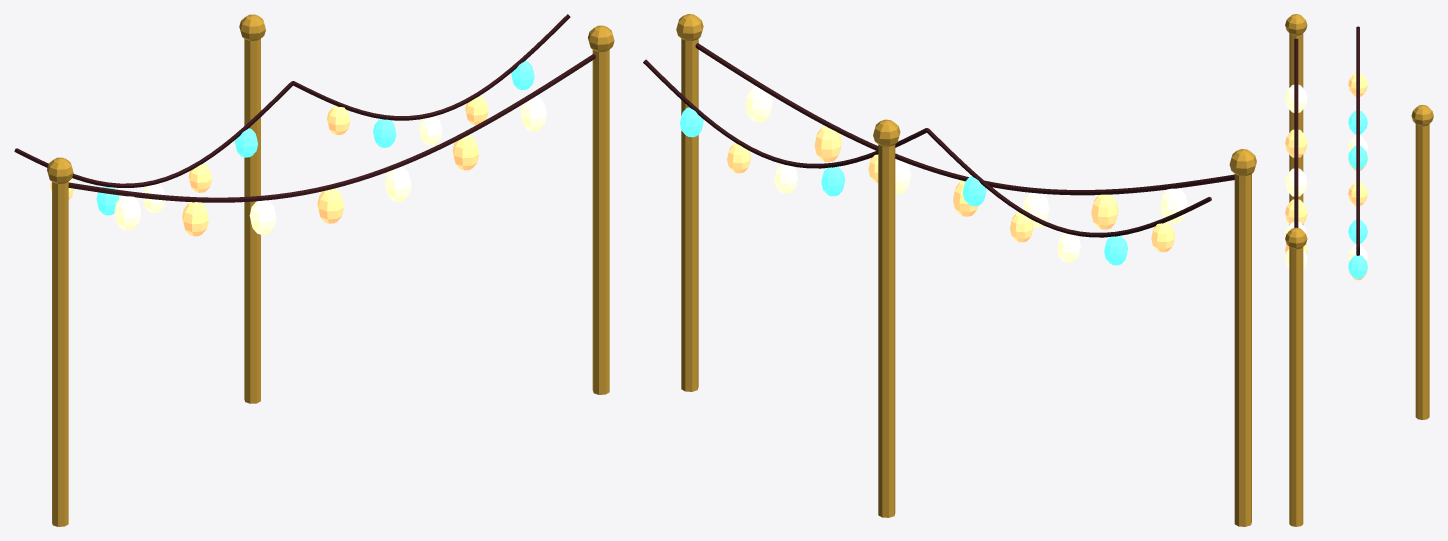
File: decoracao-luzinhas-n2.glb
The picture shows the model from 3 angles, left to right: view 1: azimuth 30°, elevation 25°; view 2: azimuth 150°, elevation 25°; view 3: azimuth 270°, elevation 25°; orthographic projection. The views are drawn at different scales.
Visible parts, largest first — view 1: Cylinder.001, Cylinder, Cylinder.042, Sphere.003, Sphere.002, Sphere.004, Sphere.005, Sphere.006, Sphere.007, Sphere.008; view 2: Cylinder.042, Cylinder, Cylinder.001, Sphere.003, Sphere.007, Sphere.008, Sphere.002; view 3: Cylinder.042, Cylinder.001, Cylinder, Sphere.004, Sphere.003, Sphere.002, Sphere, Sphere.001, Sphere.005, Sphere.009, Sphere.019, Sphere.010 (+4 smaller).
Part boxes in pixels (x1,y1,x2,y2): Cylinder.001: (592, 49, 609, 394); Cylinder: (52, 181, 68, 526); Cylinder.042: (244, 38, 260, 403); Sphere.003: (182, 202, 208, 236); Sphere.002: (114, 196, 141, 230); Sphere.004: (249, 200, 276, 234); Sphere.005: (317, 188, 343, 223); Sphere.006: (385, 166, 411, 201); Sphere.007: (452, 135, 479, 170); Sphere.008: (520, 96, 546, 131); Cylinder.042: (878, 144, 895, 517); Cylinder: (1234, 174, 1251, 526); Cylinder.001: (681, 38, 698, 391); Sphere.003: (1091, 194, 1118, 229); Sphere.007: (814, 126, 841, 162); Sphere.008: (745, 86, 772, 122); Sphere.002: (1160, 188, 1187, 223); Cylinder.042: (1415, 124, 1429, 419); Cylinder.001: (1289, 247, 1303, 526); Cylinder: (1289, 33, 1303, 224); Sphere.004: (1285, 168, 1307, 196); Sphere.003: (1285, 129, 1307, 157); Sphere.002: (1285, 84, 1307, 112); Sphere: (1285, 14, 1307, 35); Sphere.001: (1285, 227, 1307, 249); Sphere.005: (1285, 199, 1307, 224); Sphere.009: (1411, 104, 1433, 126); Sphere.019: (1348, 255, 1367, 278); Sphere.010: (1348, 73, 1367, 96).
Size of the model in its own units: 1.88 by 1.22 by 0.53.
